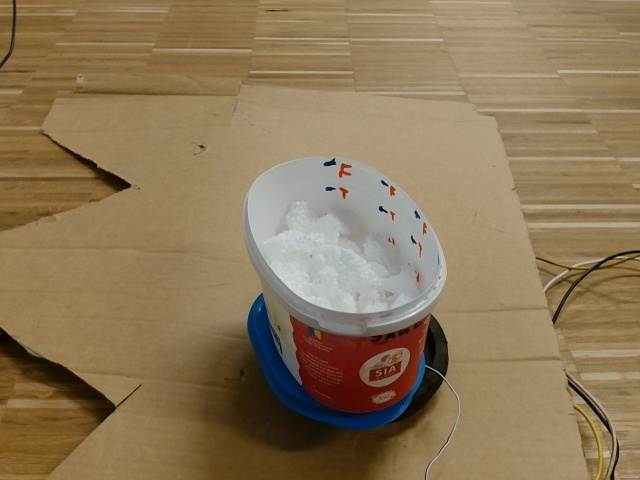Big_half: (239, 152, 451, 335)
